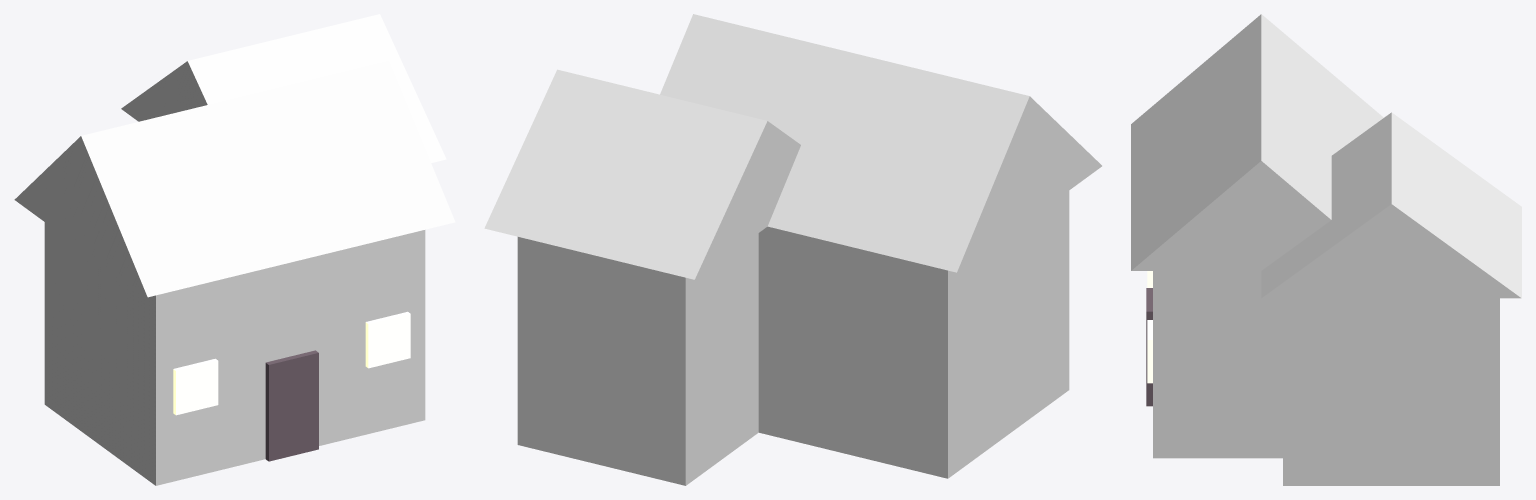
The model's file is home_house_l.glb.
3 views of the same model, side by side, from view 1: azimuth 30°, elevation 25°; view 2: azimuth 150°, elevation 25°; view 3: azimuth 270°, elevation 25° (orthographic). The views are drawn at different scales.
Parts seen in each view (by area): view 1: Body, Roof, WingRoof, Door, Window1, Window0; view 2: Body, Roof, Wing, WingRoof; view 3: Roof, Wing, WingRoof, Body, Door.
Part boxes in pixels (bbox=[...]): Body: bbox=[44, 222, 425, 485]; Roof: bbox=[14, 61, 455, 297]; WingRoof: bbox=[121, 14, 446, 162]; Door: bbox=[265, 350, 318, 461]; Window1: bbox=[365, 311, 410, 368]; Window0: bbox=[173, 358, 218, 415]; Body: bbox=[758, 191, 1069, 478]; Roof: bbox=[660, 14, 1101, 272]; Wing: bbox=[517, 233, 758, 485]; WingRoof: bbox=[484, 69, 800, 279]; Roof: bbox=[1131, 14, 1383, 270]; Wing: bbox=[1283, 298, 1499, 485]; WingRoof: bbox=[1261, 112, 1521, 298]; Body: bbox=[1153, 271, 1282, 458]; Door: bbox=[1146, 288, 1152, 406].
Bounding box in the file's own units: 9.5 × 7.8 × 9.
